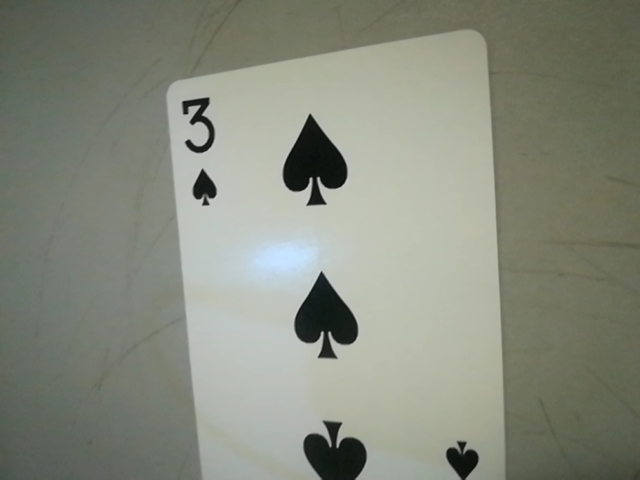ht 3: (168, 88, 229, 212)
